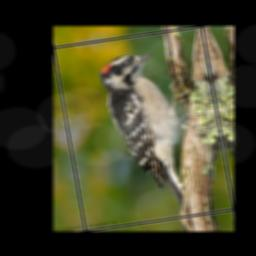Woodpecker: (94, 48, 208, 219)
